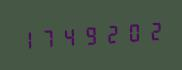four: (59, 22, 79, 50)
nine: (80, 20, 100, 49)
one: (17, 25, 37, 53)
seven: (38, 23, 58, 52)
two: (101, 19, 121, 47), (143, 16, 163, 44)
zero: (122, 17, 142, 46)
